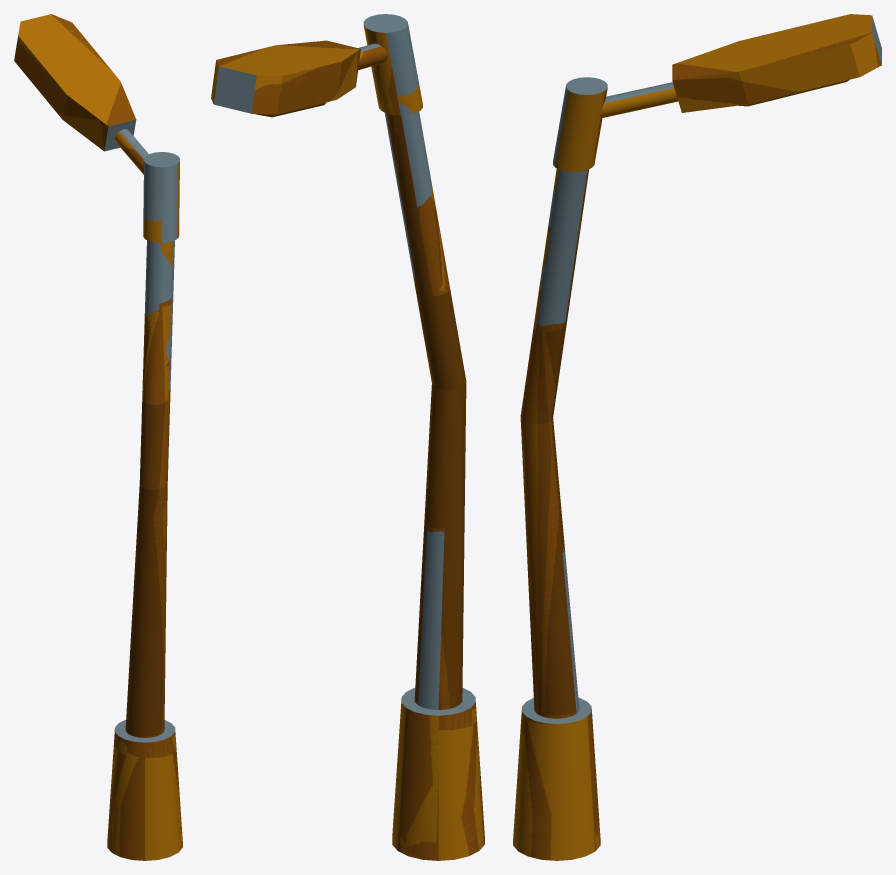
The model's file is Farola.fbx.
3 views of the same model, side by side, from view 1: azimuth 30°, elevation 25°; view 2: azimuth 150°, elevation 25°; view 3: azimuth 270°, elevation 25° (orthographic). The views are drawn at different scales.
Parts seen in each view (by area): view 1: pCube3; view 2: pCube3; view 3: pCube3.
Part boxes in pixels (bbox=[...]): pCube3: bbox=[14, 14, 182, 860]; pCube3: bbox=[211, 14, 484, 860]; pCube3: bbox=[513, 14, 881, 860].
Size of the model in its own units: 2.63 by 20.72 by 8.31.
